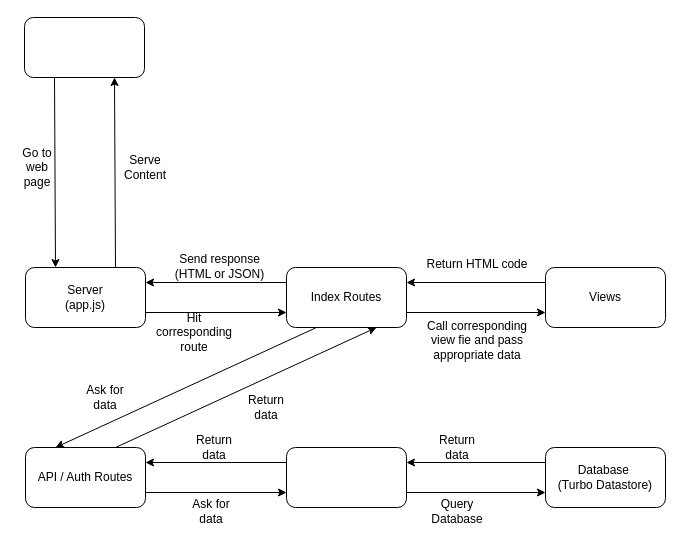
Image size: 683x543. Some labels were removed from this diagram. Here are the shapes that lost their labels. From the top down, the centre of each, then its label:
At [84,47]: "User (Browser)".
At [346,477]: "Controllers".
